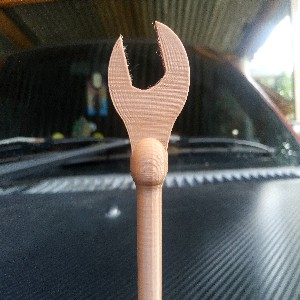spanner: (107, 21, 190, 300)
